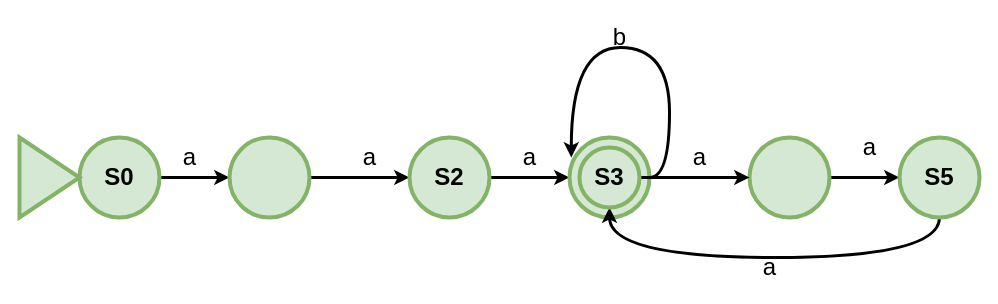
The diagram is 998 pixels wide and 304 high, and some of its shapes have lost their labels. Here are the shapes that lost their labels. From the top down, the box of each, then its label:
(227, 135, 311, 219): S1
(747, 135, 831, 219): S4
